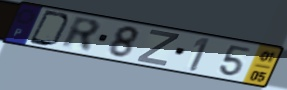1: (188, 36, 212, 73)
5: (218, 44, 254, 78)
8: (107, 25, 142, 59)
D: (27, 9, 73, 48)
R: (59, 15, 103, 55)
Z: (134, 28, 182, 68)
